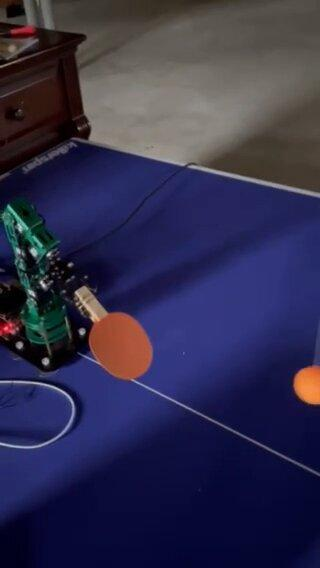oball: (294, 364, 319, 403)
